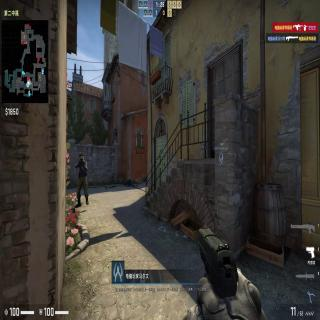T-Body: (74, 152, 89, 208)
T-Head: (79, 151, 84, 161)
